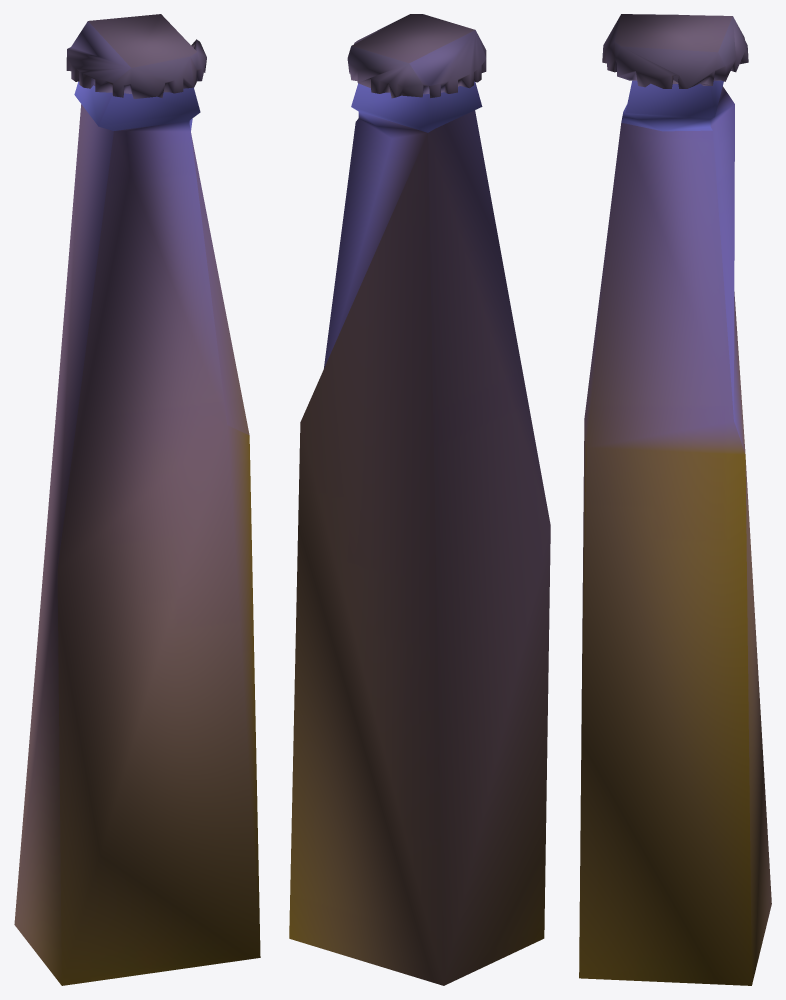
The model's file is model.progressive.glb.
The picture shows the model from 3 angles, left to right: view 1: azimuth 30°, elevation 25°; view 2: azimuth 150°, elevation 25°; view 3: azimuth 270°, elevation 25°; orthographic projection. The views are drawn at different scales.
Visible parts, largest first — view 1: BeerBottle4; view 2: BeerBottle4; view 3: BeerBottle4.
Boxes of the visible parts, x1=… form: BeerBottle4: x1=14, y1=14, x2=260, y2=985; BeerBottle4: x1=289, y1=14, x2=550, y2=985; BeerBottle4: x1=579, y1=14, x2=771, y2=985.
Size of the model in its own units: 0.4297 by 1.87 by 0.3573.
Materials: 1 (1 with a texture image).
